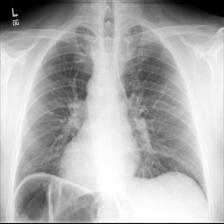normal: (8, 22, 211, 223)
